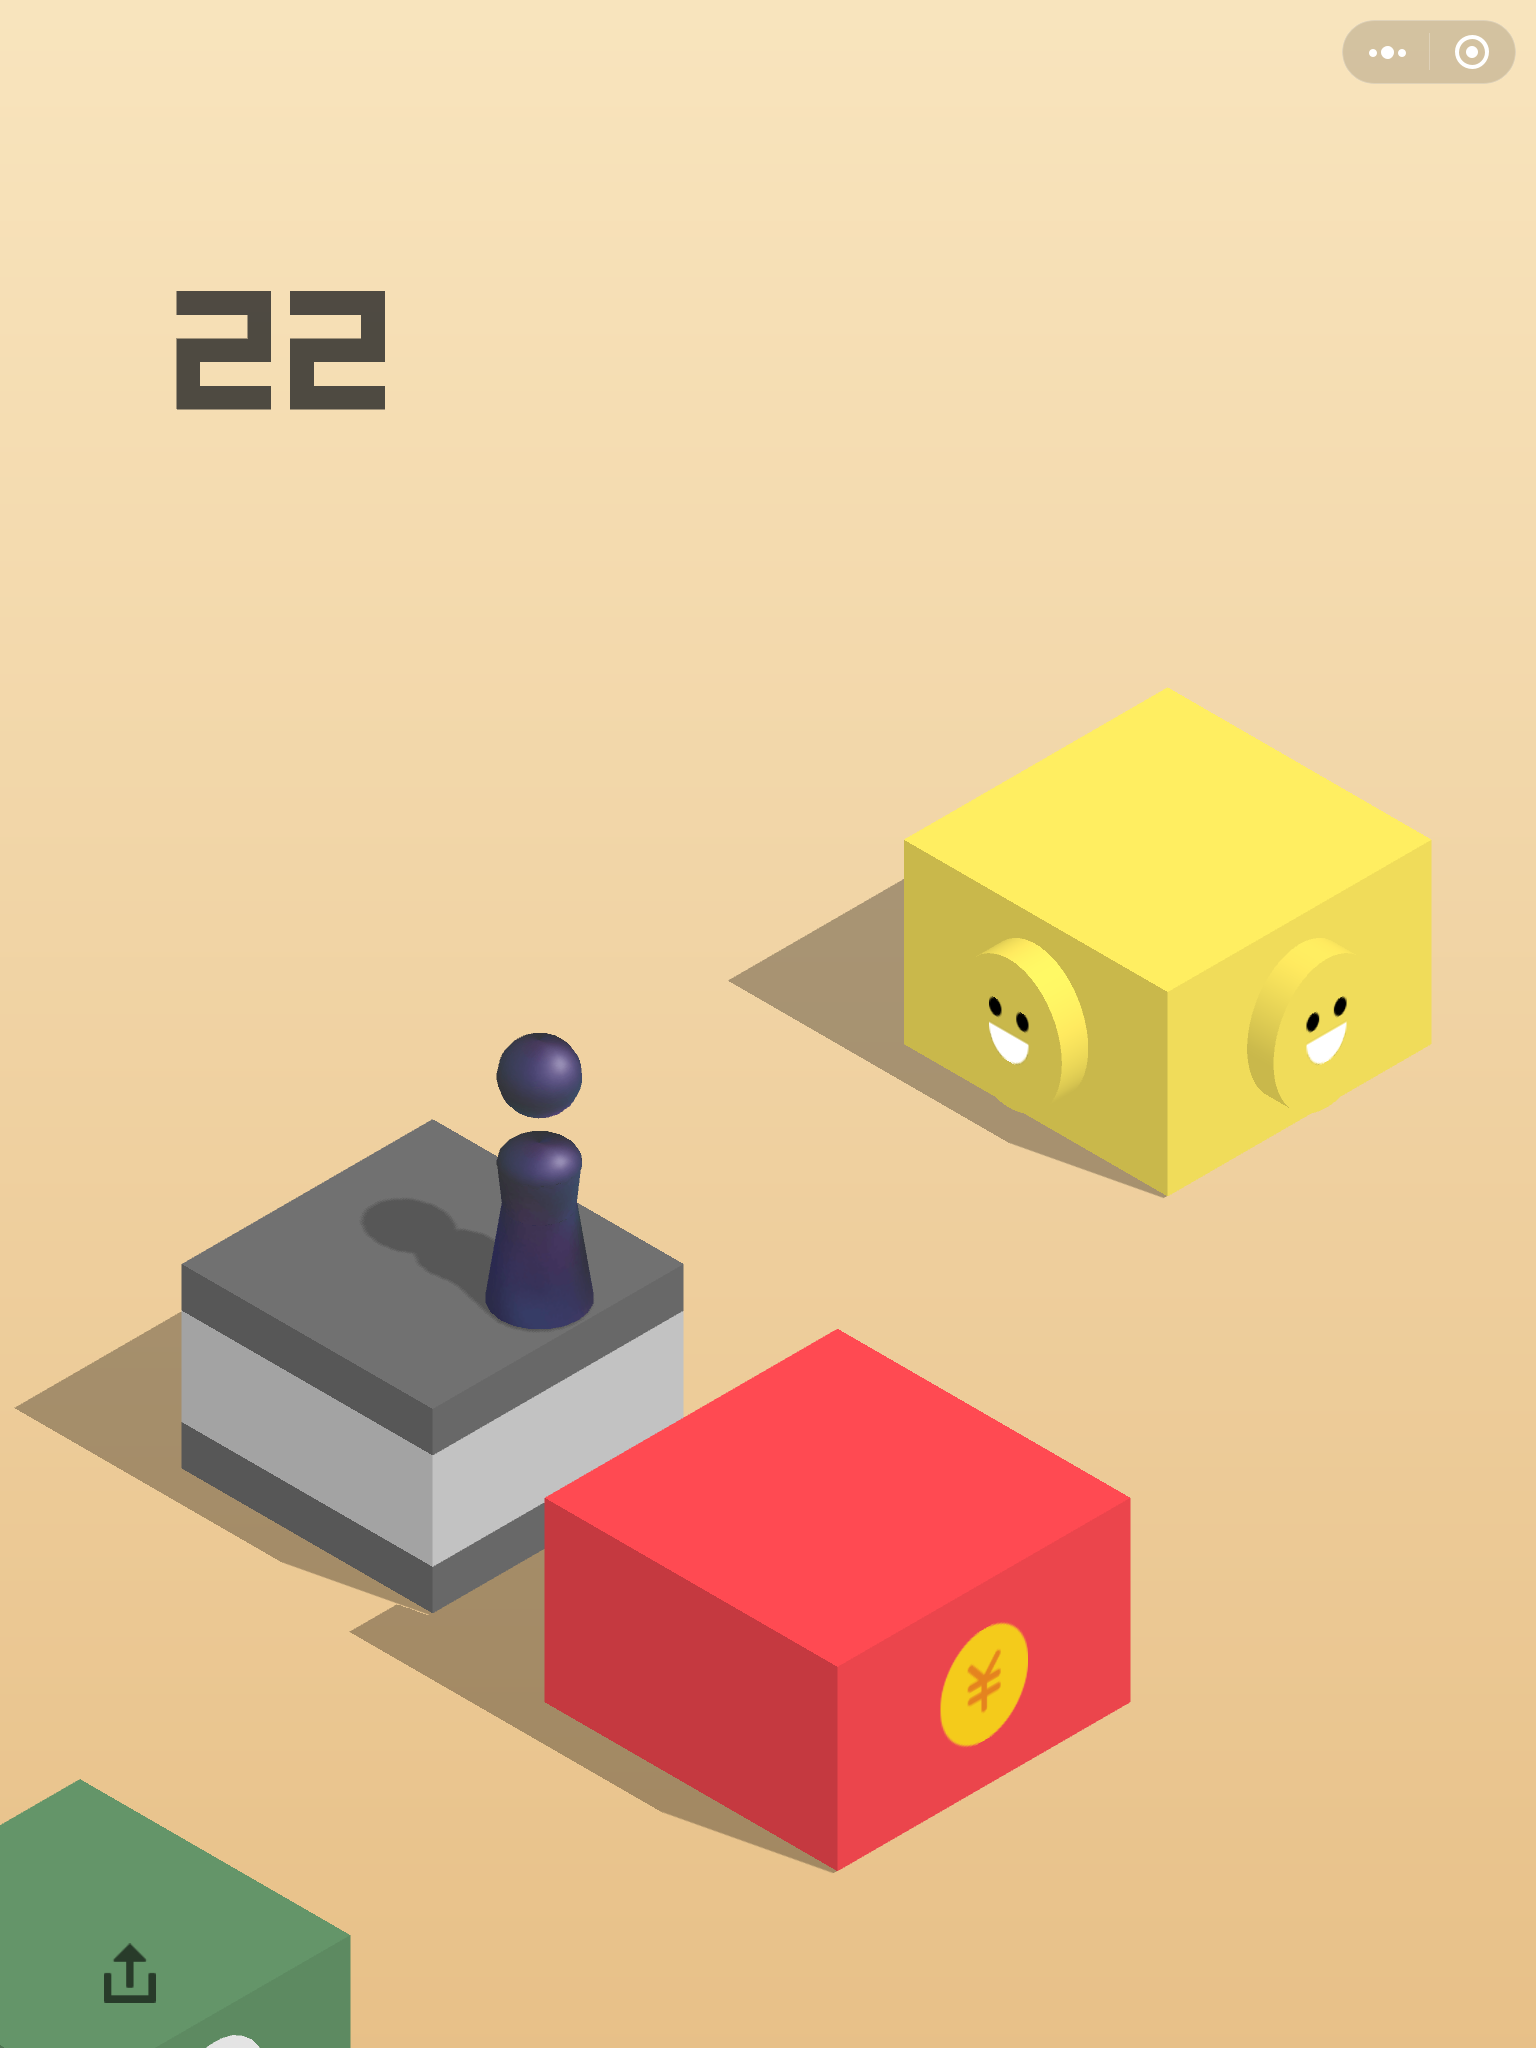f: (536, 1324, 1136, 1880), (895, 684, 1442, 1203), (173, 1111, 691, 1622), (2, 1767, 357, 2048)
r: (481, 1026, 602, 1334)
